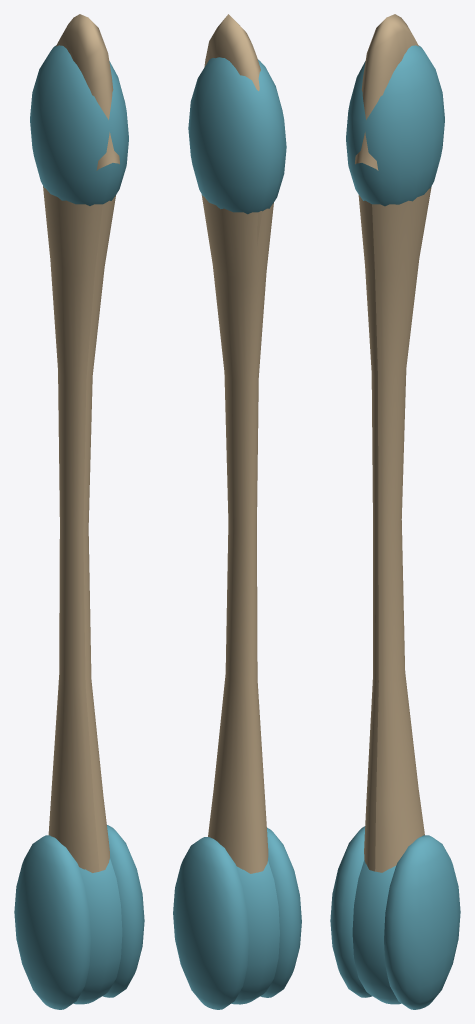
Rendered from left_ulna.glb.
3 renders of one model, left to right at view 1: azimuth 30°, elevation 25°; view 2: azimuth 210°, elevation 25°; view 3: azimuth 330°, elevation 25°, orthographic.
Visible parts, largest first — view 1: left_ulna:diaphysis, left_ulna:proximal-envelope, left_ulna:condyle--1, left_ulna:distal-envelope, left_ulna:condyle-1, left_ulna:olecranon; view 2: left_ulna:diaphysis, left_ulna:proximal-envelope, left_ulna:condyle-1, left_ulna:distal-envelope, left_ulna:condyle--1, left_ulna:olecranon; view 3: left_ulna:diaphysis, left_ulna:proximal-envelope, left_ulna:condyle-1, left_ulna:distal-envelope, left_ulna:condyle--1, left_ulna:olecranon.
Part boxes in pixels (x1,y1,x2,y2): left_ulna:diaphysis: (43,186,115,872); left_ulna:proximal-envelope: (30,45,128,205); left_ulna:condyle--1: (14,835,90,1009); left_ulna:distal-envelope: (73,858,122,1004); left_ulna:condyle-1: (102,825,144,997); left_ulna:olecranon: (56,14,119,170); left_ulna:diaphysis: (201,194,273,873); left_ulna:proximal-envelope: (188,57,286,214); left_ulna:condyle-1: (173,837,248,1009); left_ulna:distal-envelope: (231,861,279,1004); left_ulna:condyle--1: (260,827,301,997); left_ulna:olecranon: (204,14,262,245); left_ulna:diaphysis: (358,186,431,872); left_ulna:proximal-envelope: (346,45,444,206); left_ulna:condyle-1: (384,835,460,1009); left_ulna:distal-envelope: (352,860,401,1004); left_ulna:condyle--1: (330,826,372,997); left_ulna:olecranon: (355,14,418,170).
Bounding box in the file's own units: 0.0435 × 0.3915 × 0.0464.
